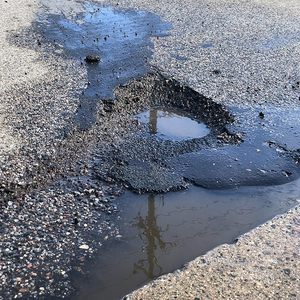pothole: (72, 185, 300, 294), (117, 77, 232, 149)
